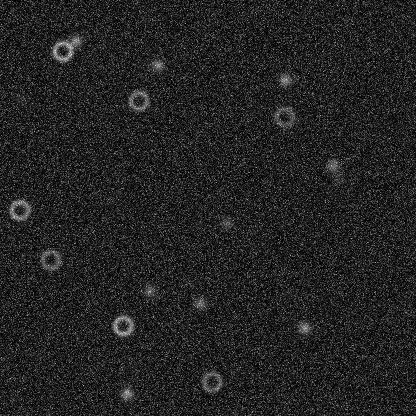Ring: (50, 39, 74, 63), (115, 362, 139, 386), (126, 88, 150, 112), (7, 197, 31, 221), (110, 313, 134, 337), (272, 104, 296, 128), (199, 369, 223, 393), (38, 247, 62, 271)
Spot: (218, 214, 234, 230), (324, 157, 340, 173), (67, 33, 83, 49), (118, 385, 134, 401), (329, 171, 345, 187), (296, 319, 312, 335), (149, 57, 165, 73), (12, 90, 28, 106), (280, 286, 296, 302), (277, 71, 293, 87), (191, 295, 207, 311), (141, 283, 157, 299)
